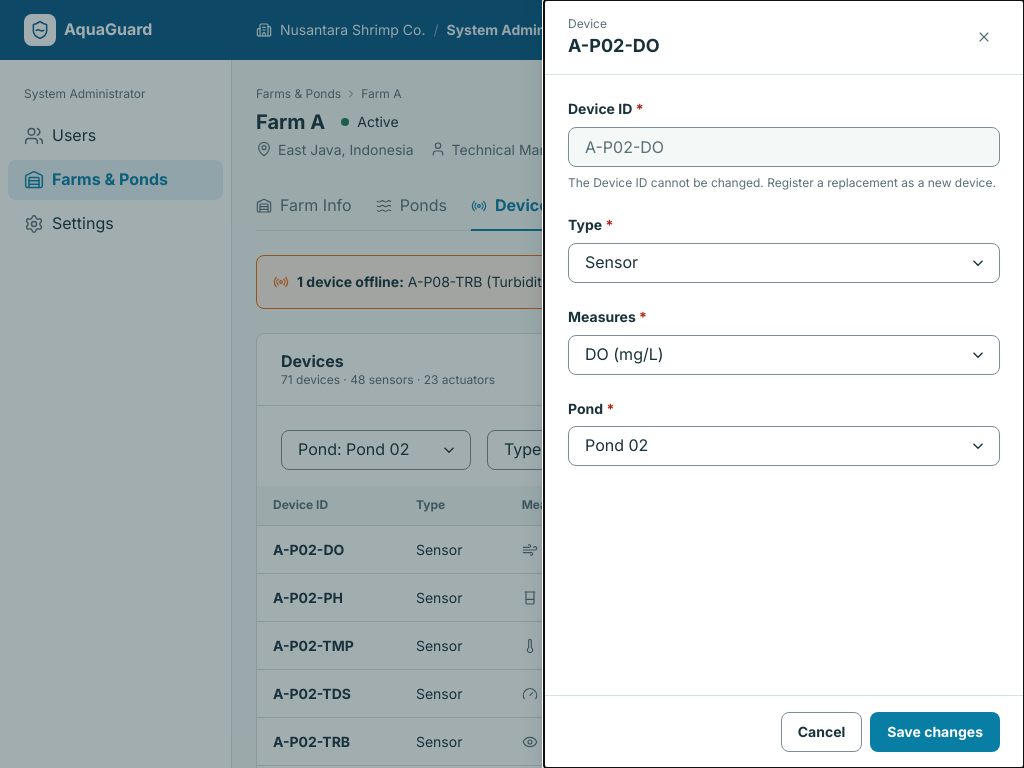
Test: AD-03 Farm Detail › cannot change a Device ID when editing
Expected: the field labelled "Device ID" is disabled, top-left (568, 127), bottom-right (1000, 167)
Step 1. Select "Pond 09 (Fallow)" in the dropdown labelled "Pond *" → (784, 446), box top-left (568, 426), bottom-right (1000, 466)
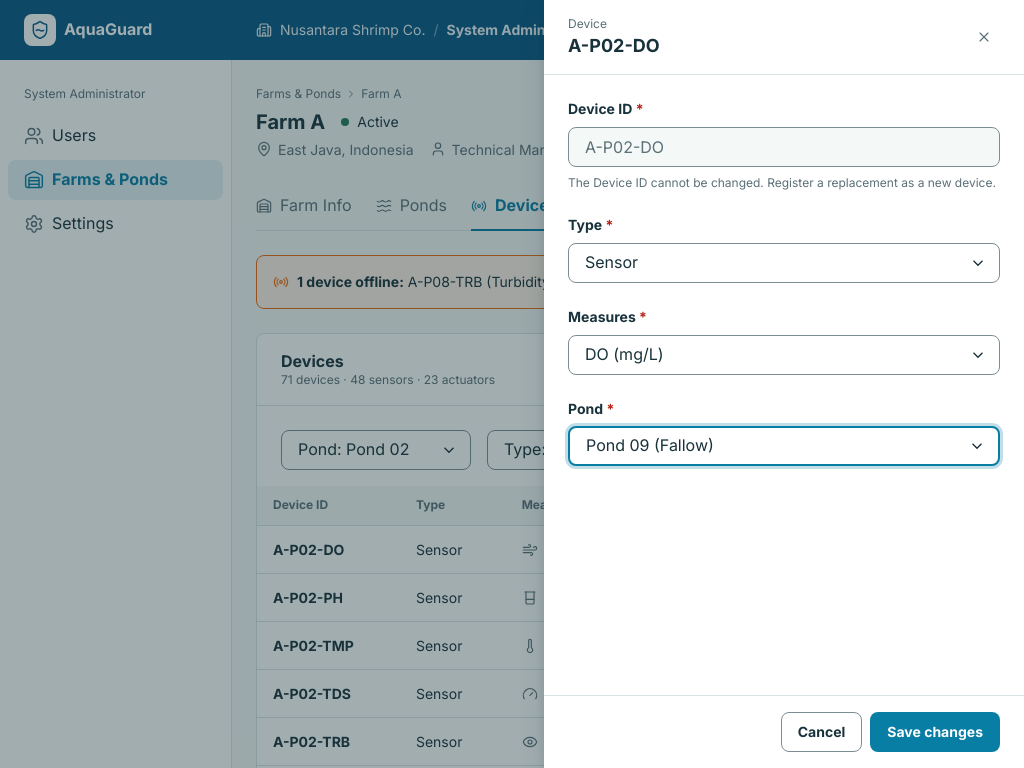
Step 2. Click the button "Save changes" → (935, 732), box top-left (870, 712), bottom-right (1000, 752)
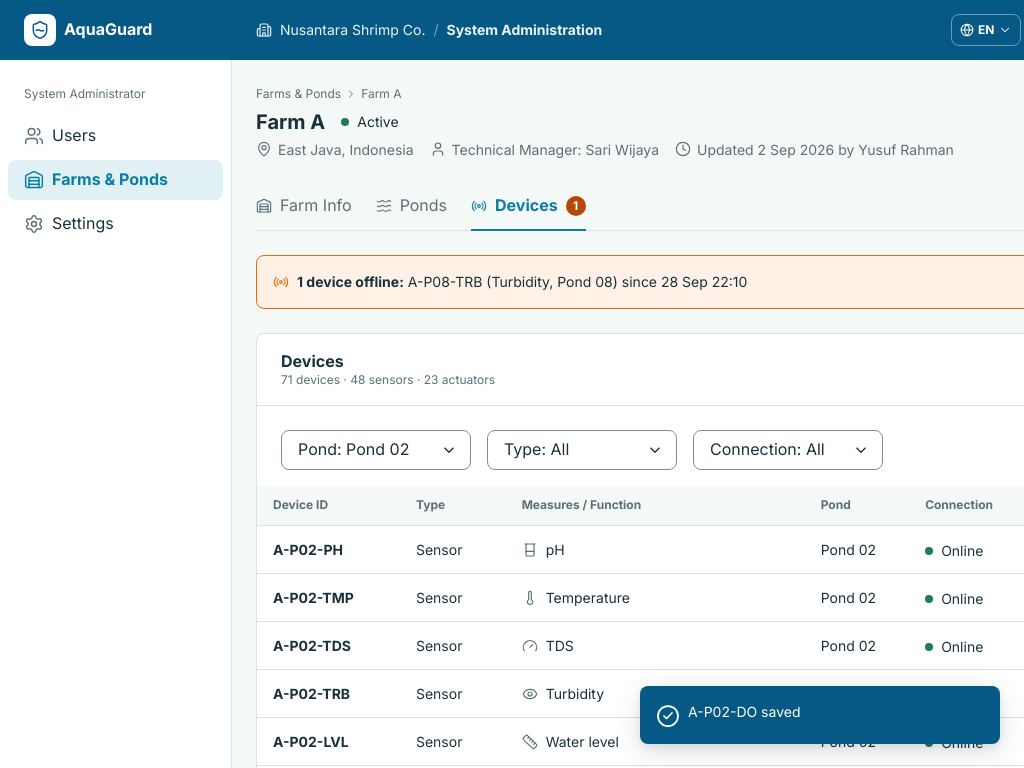
Result: the text "A-P02-DO saved" is shown at top-left (688, 702), bottom-right (800, 722)
